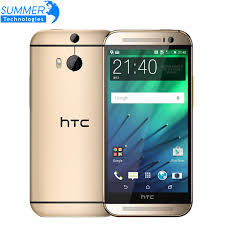htc: (102, 28, 194, 218), (26, 26, 107, 217)
